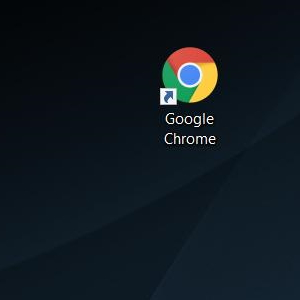chrome: (159, 47, 218, 105)
